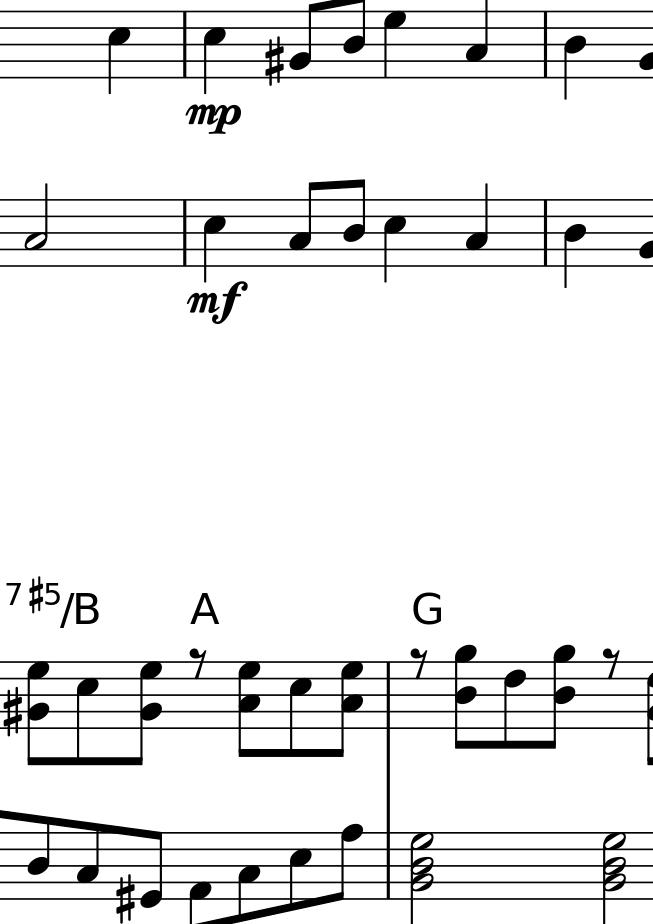2_3: (22, 184, 51, 267)
2_th: (409, 827, 434, 923), (601, 828, 628, 916)
4_3: (463, 1, 491, 79), (465, 185, 489, 268)
4_4: (563, 10, 588, 102), (563, 199, 587, 289)
4_5: (201, 197, 227, 284), (106, 9, 131, 96), (382, 199, 408, 282), (202, 9, 226, 97)
4_7: (381, 7, 407, 79)
7: (6, 579, 20, 605)
8_0: (139, 829, 167, 910)
8_1: (186, 834, 213, 924)
8_2: (289, 1, 321, 78)
8_2_7: (131, 661, 162, 766), (26, 661, 51, 766)
8_3: (287, 181, 321, 268), (235, 830, 261, 924), (74, 821, 99, 902)
8_3_7: (334, 661, 363, 759), (237, 660, 261, 760)
8_4: (26, 814, 52, 902), (342, 178, 367, 267), (341, 1, 368, 79)
8_4_9: (543, 644, 576, 750), (453, 644, 477, 751)
8_5: (73, 657, 100, 767), (286, 659, 312, 758), (287, 830, 312, 912)
8_6: (502, 660, 528, 752)
8_8: (330, 822, 361, 904)
Rests8: (602, 647, 623, 680), (409, 647, 430, 679), (189, 646, 209, 679)
Sharp: (1, 685, 23, 738), (263, 36, 285, 88), (115, 873, 136, 924), (28, 576, 44, 615)
Single_barline: (177, 12, 194, 77), (538, 10, 554, 78), (381, 661, 397, 728), (177, 201, 193, 265), (538, 201, 553, 265)
mf: (186, 281, 247, 328)
ppp: (183, 101, 244, 138)
